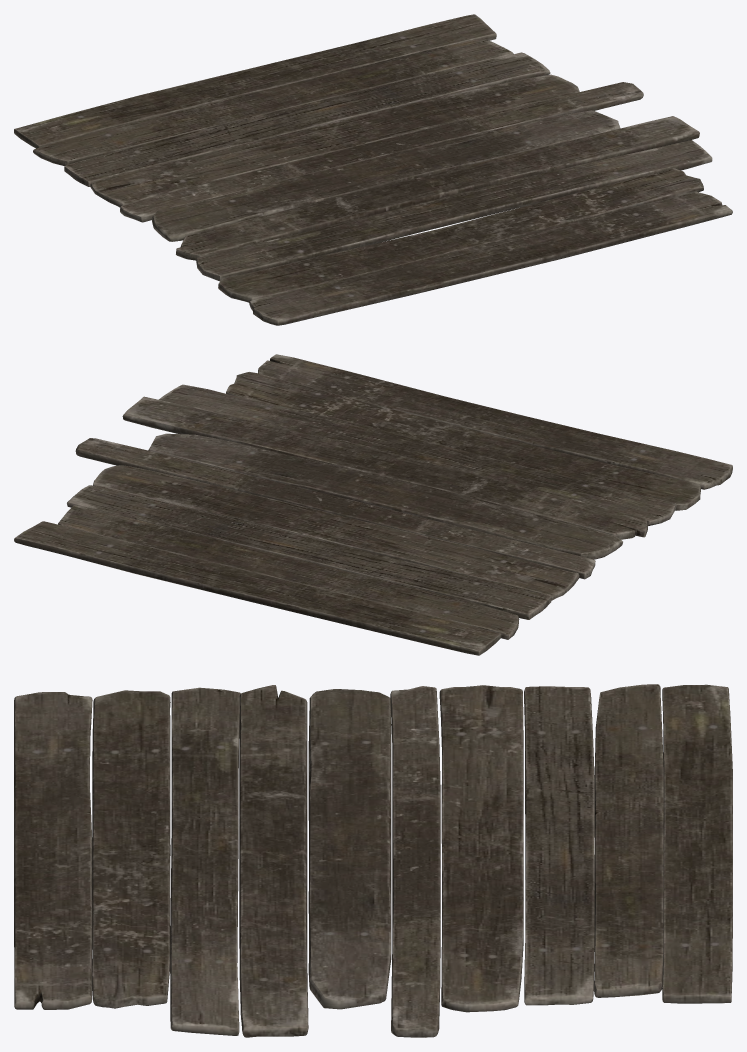
The model's file is modular_wooden_pier.glb.
The picture shows the model from 3 angles, top to bottom: view 1: azimuth 30°, elevation 25°; view 2: azimuth 150°, elevation 25°; view 3: azimuth 270°, elevation 25°; orthographic projection. The views are drawn at different scales.
Visible parts, largest first — view 1: modular_wooden_pier_planks; view 2: modular_wooden_pier_planks; view 3: modular_wooden_pier_planks.
Boxes of the visible parts, x1,y1,x2,y2 form: modular_wooden_pier_planks: (14, 14, 732, 325); modular_wooden_pier_planks: (14, 354, 732, 655); modular_wooden_pier_planks: (14, 684, 732, 1037).
Bounding box in the file's own units: 2.52 × 0.0798 × 2.2.
1 material, 1 textured.
